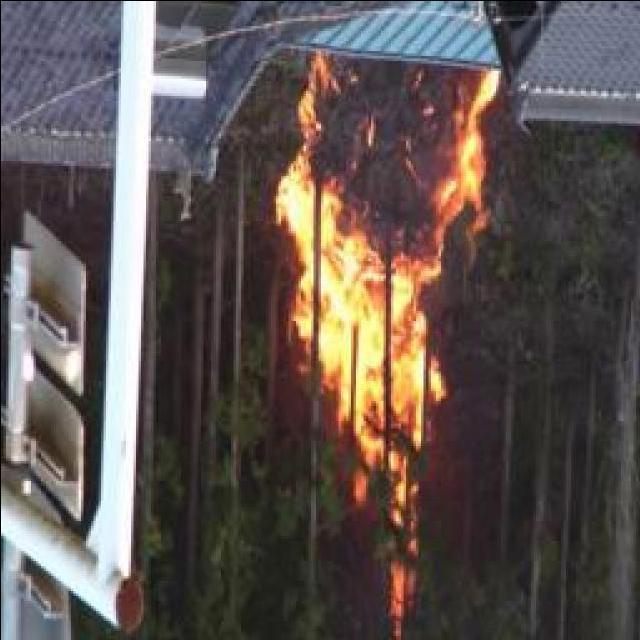Fire: (279, 63, 499, 494)
